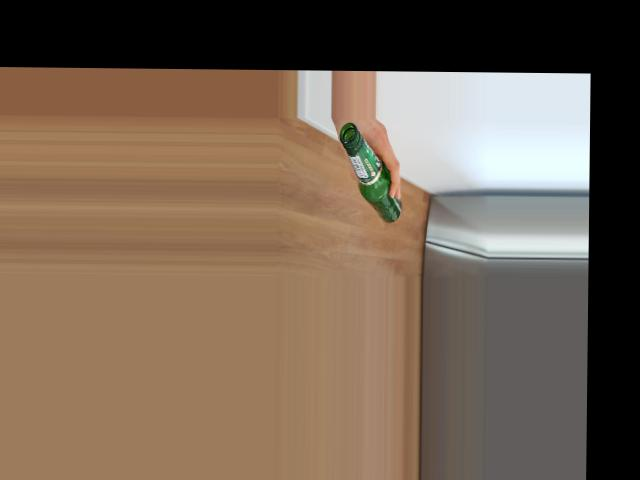beer: (338, 121, 402, 222)
